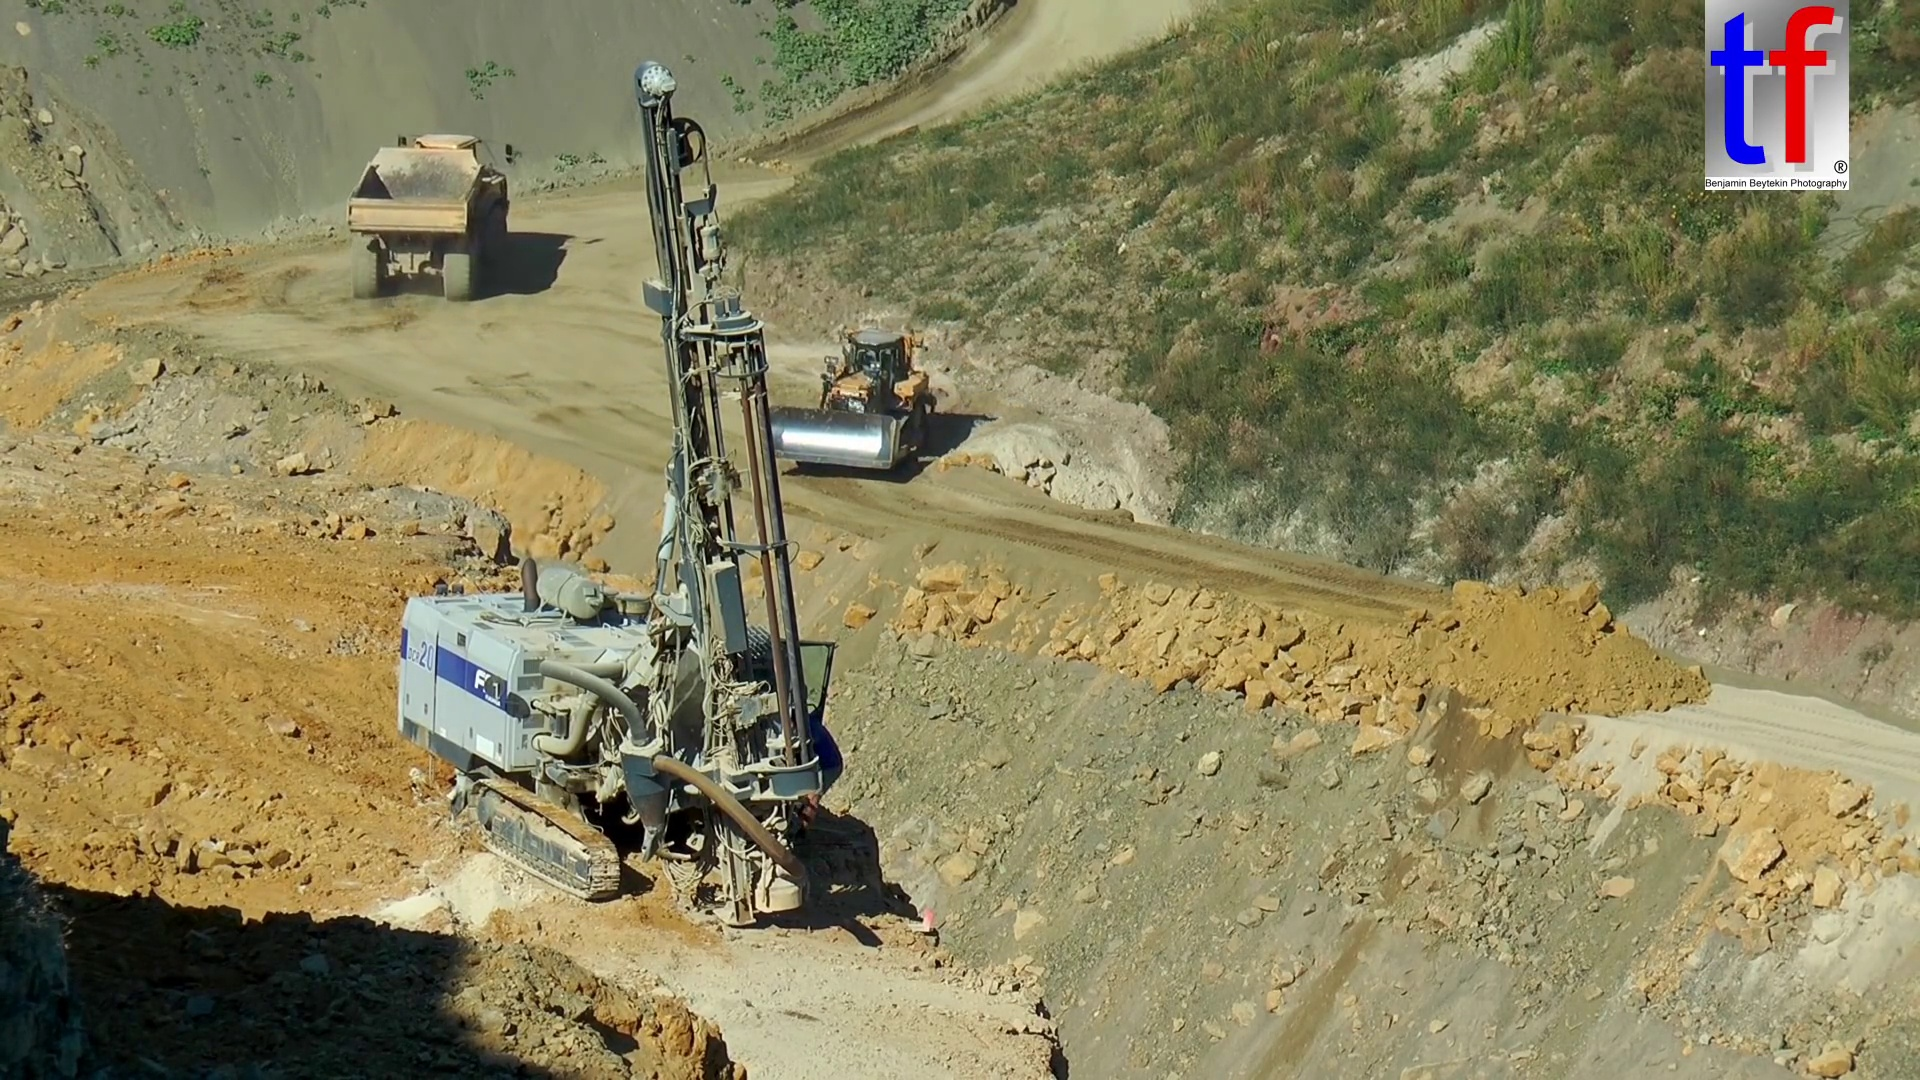bulldozer: (760, 328, 930, 473)
dumper: (345, 132, 506, 301)
excavator: (398, 61, 824, 936)
